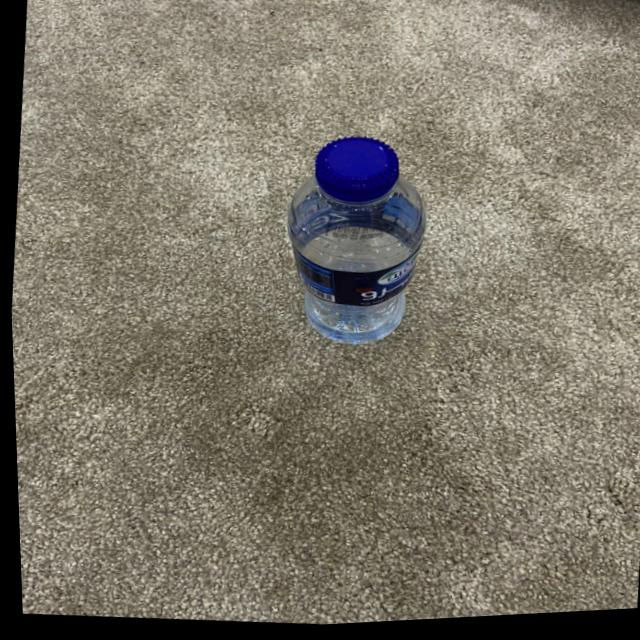anorganik: (254, 116, 448, 370)
